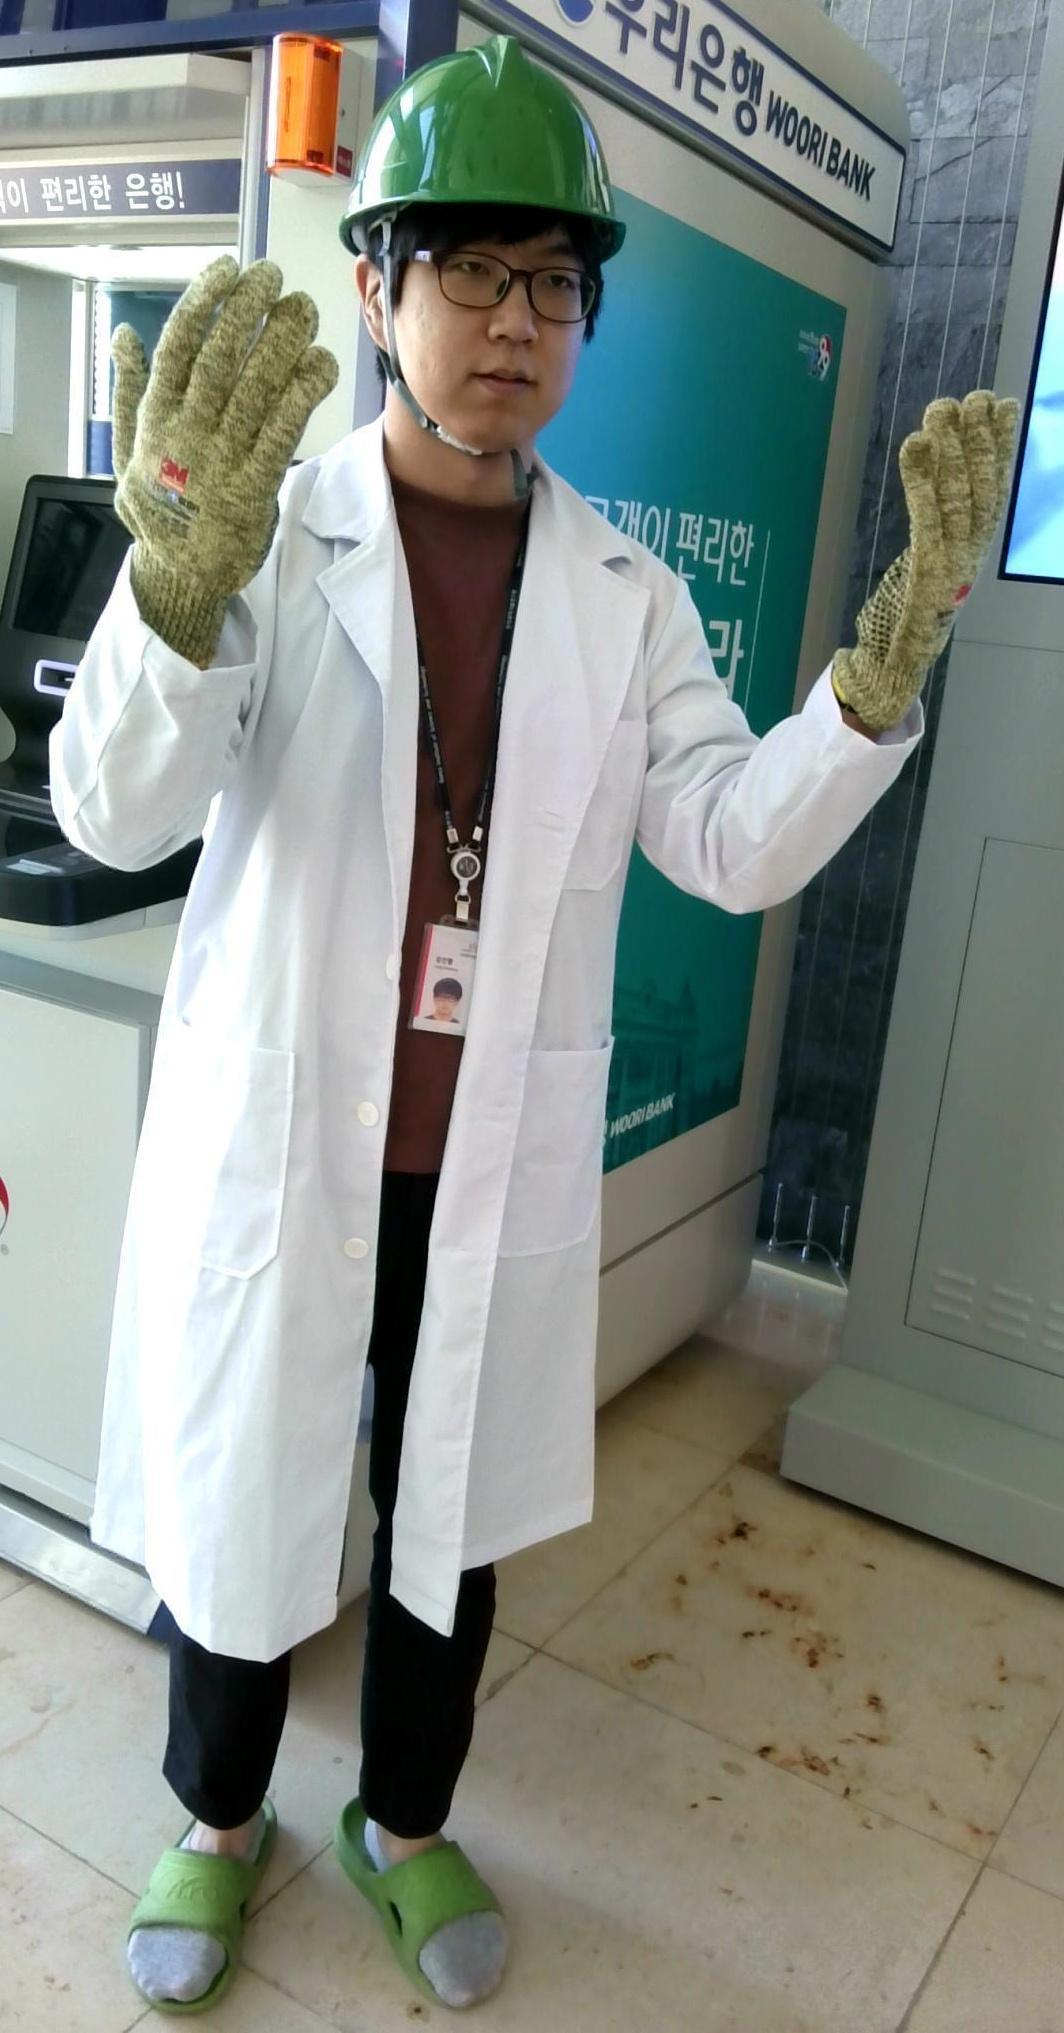lab_coat: (140, 610, 677, 1540)
